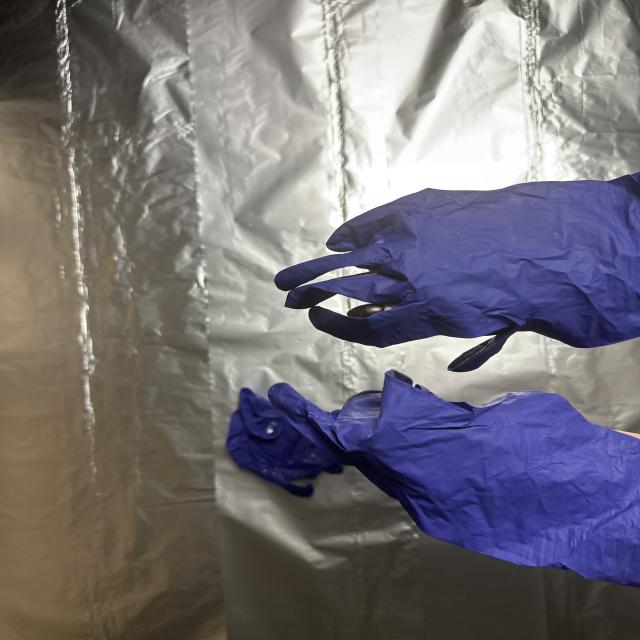glove_not_fitted: (254, 356, 640, 584), (272, 168, 640, 380)
